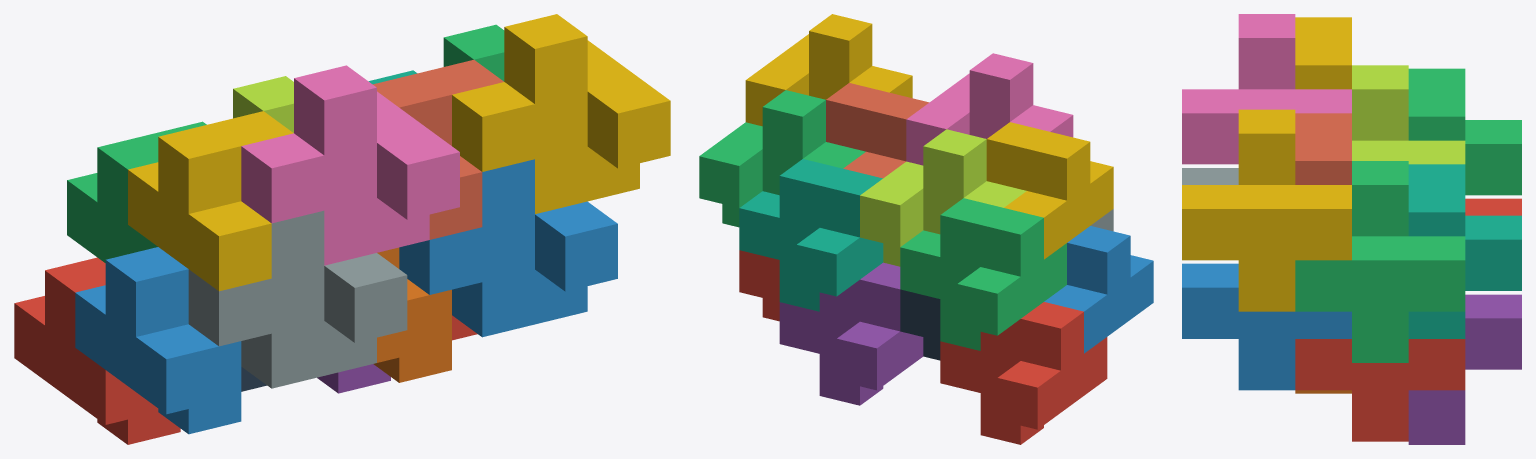
The model's file is tiling.obj.
3 renders of one model, left to right at view 1: azimuth 30°, elevation 25°; view 2: azimuth 150°, elevation 25°; view 3: azimuth 270°, elevation 25°, orthographic. The views are drawn at different scales.
Parts seen in each view (by area): view 1: copy_2_domain_4, copy_2_domain_8, copy_2_domain_2, copy_2_domain_6, copy_1_domain_2, copy_1_domain_4, copy_1_domain_1, copy_1_domain_3, copy_1_domain_8, copy_1_domain_6, copy_2_domain_7, copy_2_domain_3 (+1 smaller); view 2: copy_1_domain_3, copy_1_domain_1, copy_1_domain_7, copy_1_domain_5, copy_1_domain_4, copy_2_domain_3, copy_2_domain_7, copy_2_domain_4, copy_2_domain_8, copy_1_domain_2, copy_1_domain_8, copy_2_domain_1 (+1 smaller); view 3: copy_2_domain_8, copy_2_domain_7, copy_2_domain_4, copy_2_domain_6, copy_2_domain_5, copy_1_domain_7, copy_1_domain_3, copy_1_domain_5, copy_2_domain_3, copy_1_domain_4, copy_1_domain_8, copy_1_domain_1 (+1 smaller).
Part boxes in pixels (x1,y1,x2,y2): copy_2_domain_4: (241, 65, 459, 265); copy_2_domain_8: (452, 14, 670, 214); copy_2_domain_2: (188, 210, 407, 388); copy_2_domain_6: (399, 159, 617, 337); copy_1_domain_2: (75, 247, 241, 434); copy_1_domain_4: (128, 111, 293, 291); copy_1_domain_1: (14, 257, 180, 444); copy_1_domain_3: (67, 121, 206, 262); copy_1_domain_8: (373, 59, 503, 239); copy_1_domain_6: (373, 247, 451, 382); copy_2_domain_7: (443, 24, 504, 81); copy_2_domain_3: (233, 76, 293, 132); copy_1_domain_3: (900, 198, 1066, 350); copy_1_domain_1: (940, 302, 1107, 444); copy_1_domain_7: (739, 159, 883, 311); copy_1_domain_5: (779, 262, 923, 405); copy_1_domain_4: (986, 122, 1113, 259); copy_2_domain_3: (860, 129, 1026, 266); copy_2_domain_7: (699, 90, 865, 227); copy_2_domain_4: (906, 53, 1073, 165); copy_2_domain_8: (745, 14, 912, 126); copy_1_domain_2: (1044, 226, 1153, 353); copy_1_domain_8: (826, 83, 929, 178); copy_2_domain_1: (900, 289, 940, 360); copy_2_domain_8: (1182, 109, 1351, 311); copy_2_domain_7: (1295, 161, 1465, 362); copy_2_domain_4: (1182, 14, 1351, 164); copy_2_domain_6: (1182, 263, 1351, 390); copy_2_domain_5: (1295, 339, 1465, 441); copy_1_domain_7: (1408, 164, 1521, 338); copy_1_domain_3: (1408, 68, 1521, 195); copy_1_domain_5: (1408, 294, 1521, 444); copy_2_domain_3: (1352, 65, 1465, 164); copy_1_domain_4: (1295, 17, 1351, 89); copy_1_domain_8: (1295, 113, 1351, 184); copy_1_domain_1: (1465, 198, 1521, 215).
Size of the model in its own units: 9 by 7 by 6.
